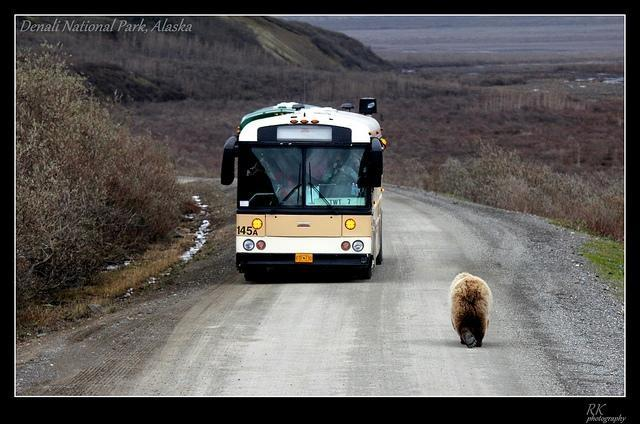bus: (220, 101, 387, 286)
